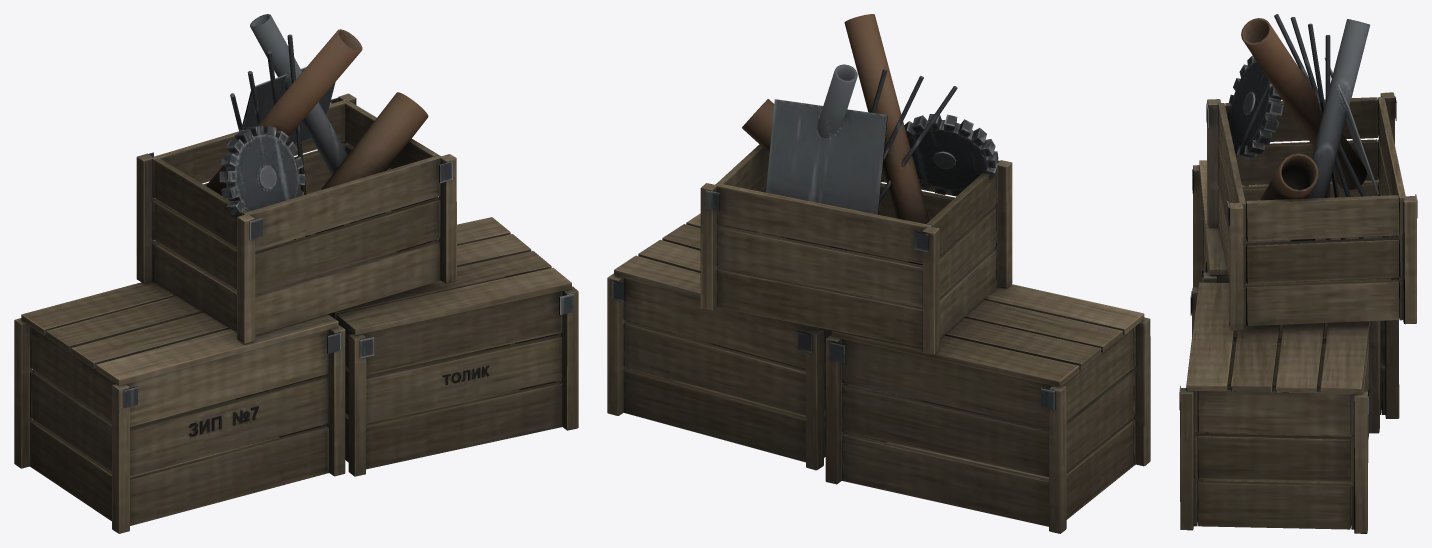
File: prop_crate_stack.glb
3 renders of one model, left to right at view 1: azimuth 30°, elevation 25°; view 2: azimuth 150°, elevation 25°; view 3: azimuth 270°, elevation 25°, orthographic.
Visible parts, largest first — view 1: prop_crate_stack; view 2: prop_crate_stack; view 3: prop_crate_stack.
Part boxes in pixels (x1,y1,x2,y2): prop_crate_stack: [14, 14, 578, 533]; prop_crate_stack: [607, 14, 1150, 533]; prop_crate_stack: [1179, 14, 1417, 533].
Bounding box in the file's own units: 1.35 × 1.14 × 0.596.
Materials: 1 (1 with a texture image).
